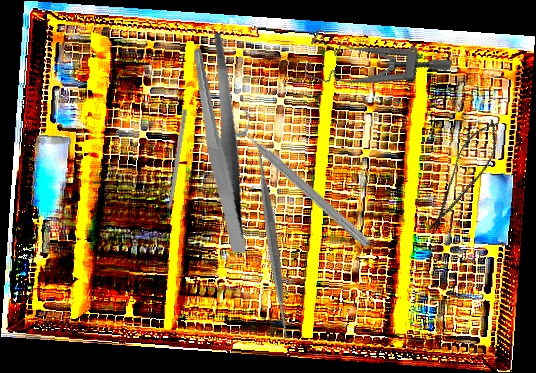Chopper: (158, 107, 188, 226)
Dressing Forceps: (170, 30, 273, 254)
Fixation Ring: (218, 101, 383, 253)
Micro Scissor: (418, 111, 510, 242)
Spatula Surgical: (165, 134, 379, 348)
Speculum: (300, 15, 454, 119)
